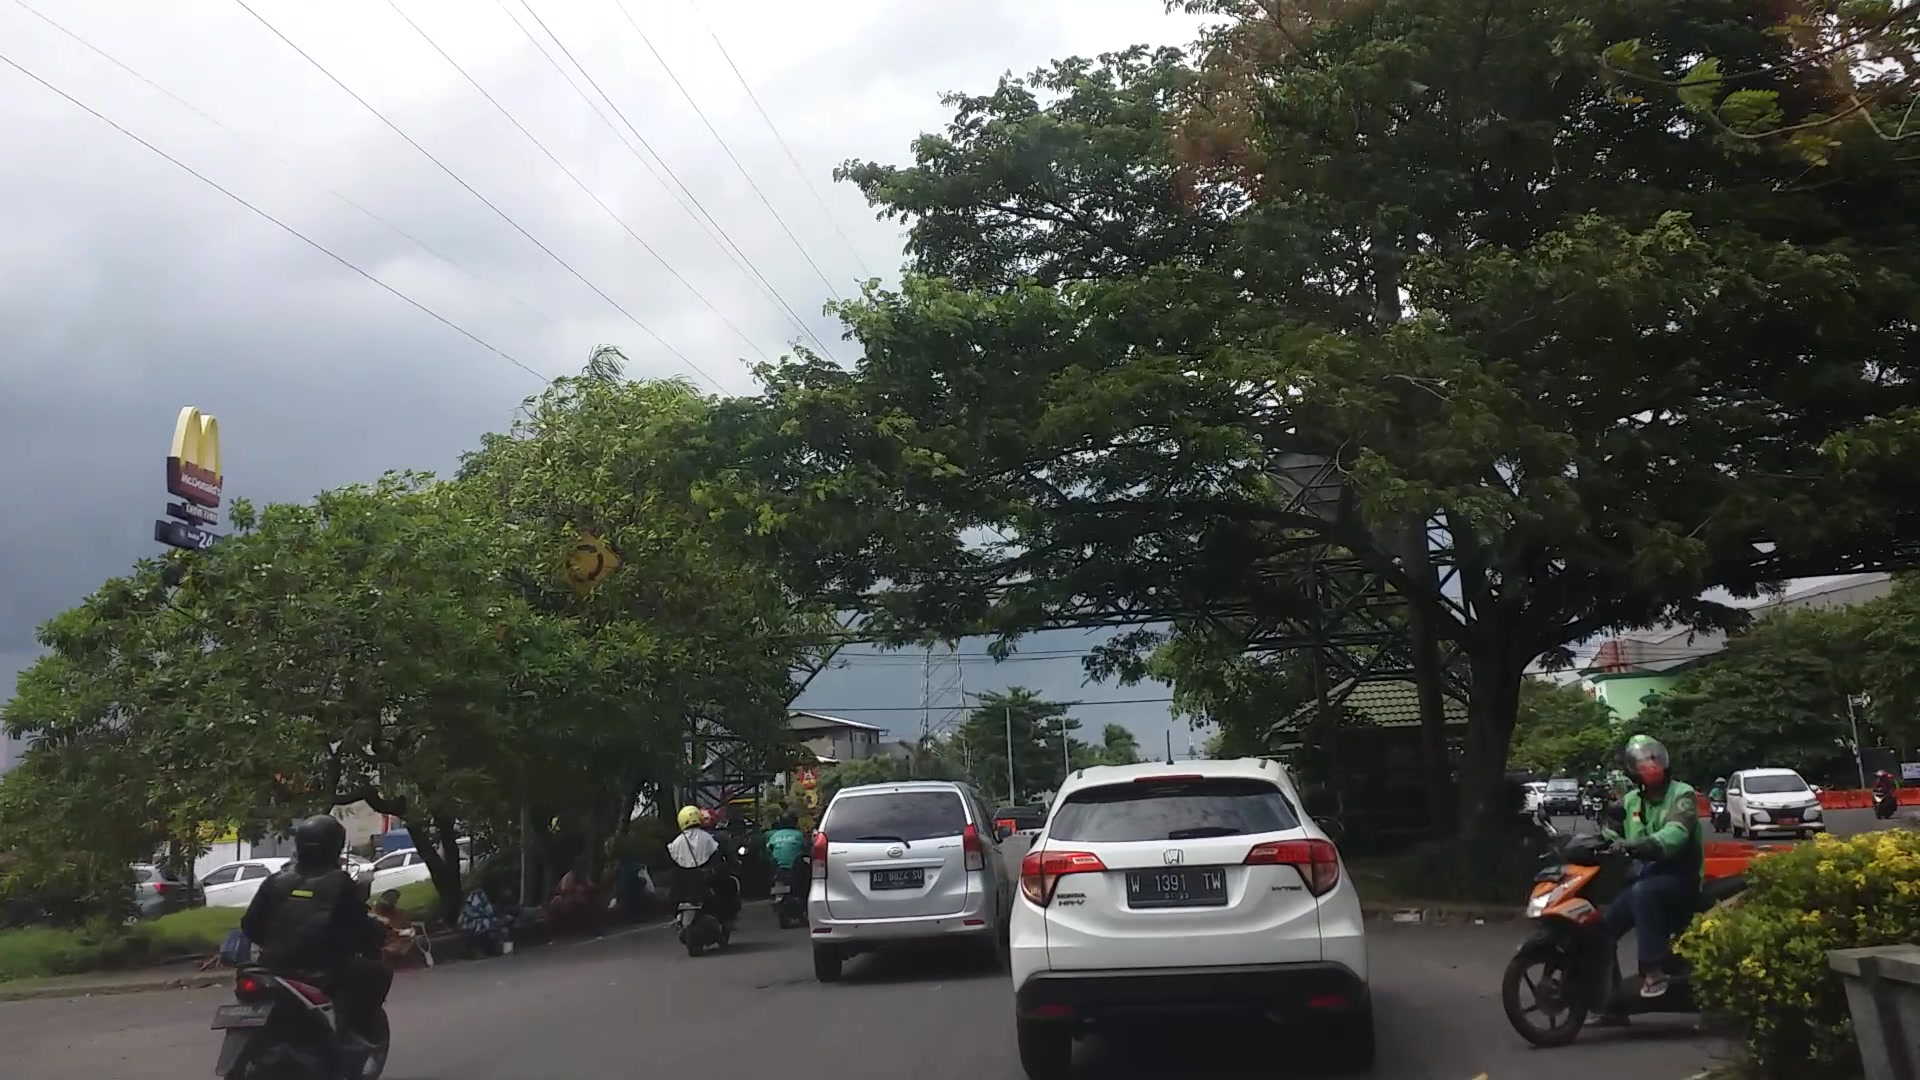plate_positive: (1126, 866, 1226, 907)
